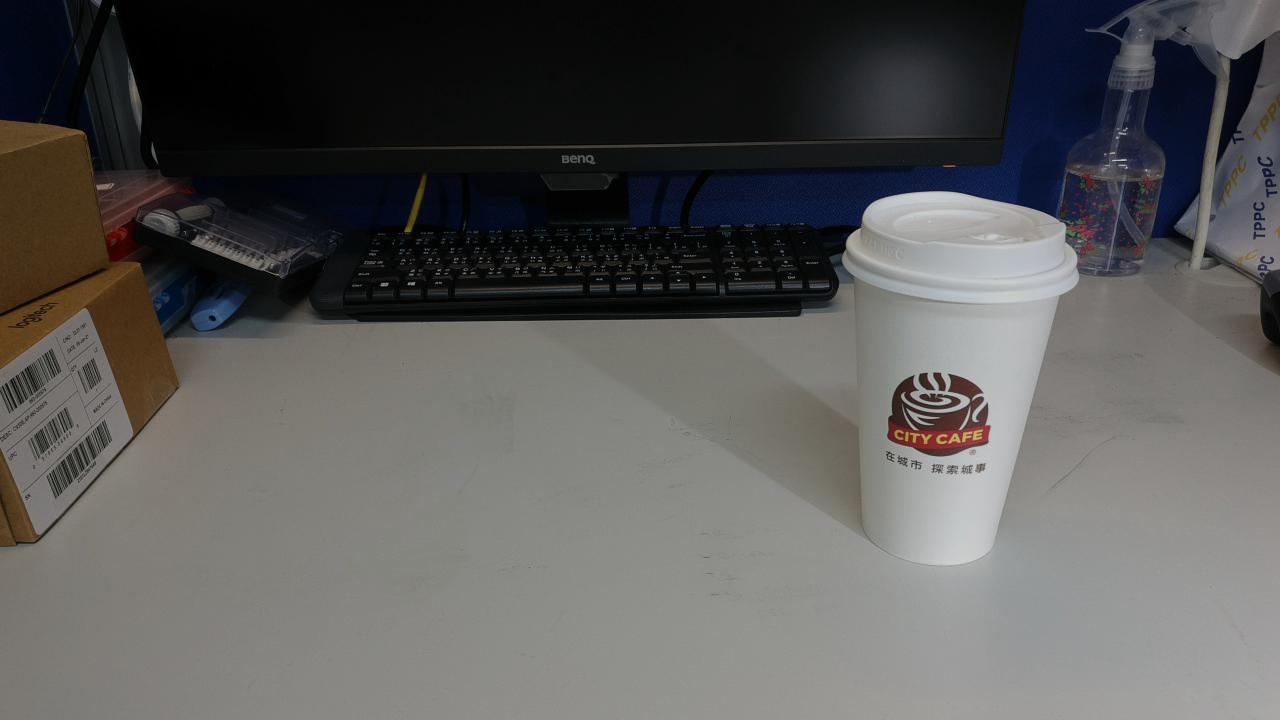columnar: (486, 216, 634, 389)
grip: (459, 266, 518, 382)
